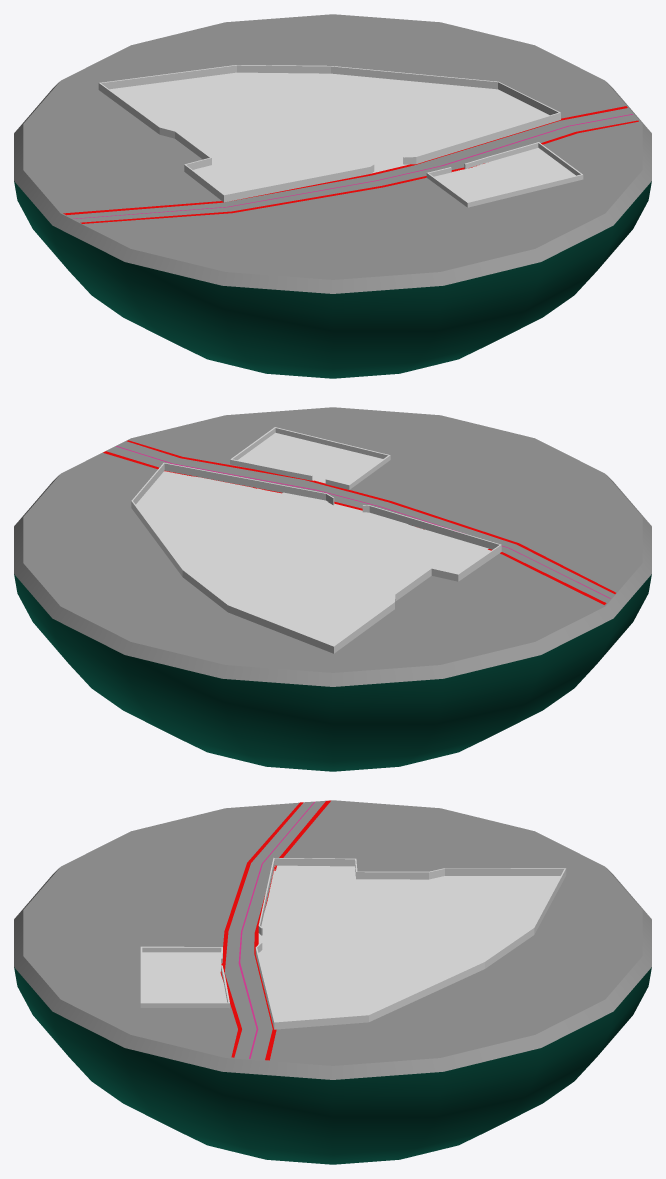
Rendered from factory.FBX.
3 renders of one model, top to bottom at view 1: azimuth 30°, elevation 25°; view 2: azimuth 150°, elevation 25°; view 3: azimuth 270°, elevation 25°, orthographic.
Parts seen in each view (by area): view 1: Cylinder001, Plane006, Object002, Line002, Object001, Plane007, Plane008; view 2: Cylinder001, Plane006, Object002, Line002, Object001, Plane007, Plane008; view 3: Cylinder001, Plane006, Object002, Line002, Object001, Plane007, Plane008.
Boxes of the visible parts, bbox=[...] form: Cylinder001: bbox=[14, 14, 651, 378]; Plane006: bbox=[150, 81, 542, 193]; Object002: bbox=[109, 72, 549, 194]; Line002: bbox=[63, 106, 638, 223]; Object001: bbox=[98, 65, 560, 202]; Plane007: bbox=[426, 142, 583, 207]; Plane008: bbox=[126, 77, 534, 179]; Cylinder001: bbox=[14, 407, 651, 771]; Plane006: bbox=[165, 473, 488, 629]; Object002: bbox=[136, 471, 490, 645]; Line002: bbox=[103, 440, 615, 604]; Object001: bbox=[131, 462, 501, 653]; Plane007: bbox=[230, 427, 390, 489]; Plane008: bbox=[151, 484, 422, 640]; Cylinder001: bbox=[14, 800, 651, 1164]; Plane006: bbox=[258, 870, 522, 1021]; Object002: bbox=[258, 865, 560, 1021]; Line002: bbox=[220, 800, 330, 1060]; Object001: bbox=[255, 858, 566, 1029]; Plane007: bbox=[140, 946, 229, 1008]; Plane008: bbox=[266, 885, 554, 1018].
Bounding box in the file's own units: 246283 × 65675 × 242541.
